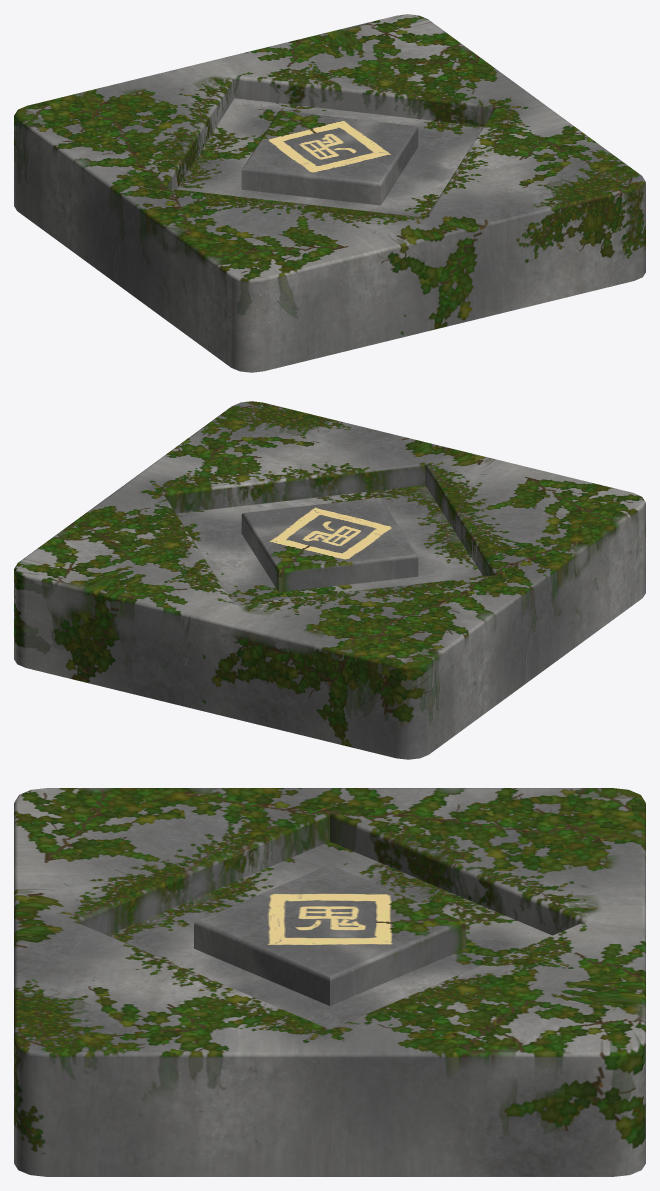
3 renders of one model, top to bottom at view 1: azimuth 30°, elevation 25°; view 2: azimuth 150°, elevation 25°; view 3: azimuth 270°, elevation 25°, orthographic. The views are drawn at different scales.
Visible parts, largest first — view 1: pCube5; view 2: pCube5; view 3: pCube5.
Boxes of the visible parts, bbox=[...] form: pCube5: bbox=[14, 14, 645, 372]; pCube5: bbox=[14, 401, 645, 759]; pCube5: bbox=[14, 788, 645, 1176].
Bounding box in the file's own units: 1.54 × 0.3314 × 1.54.
1 material, 1 textured.
